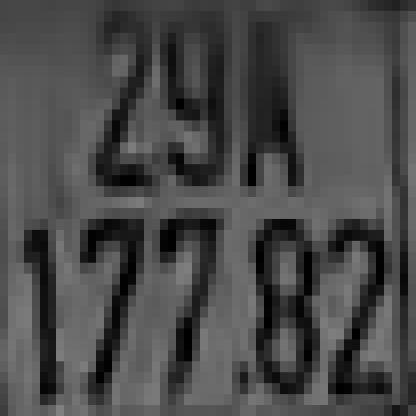1: (16, 208, 72, 394)
2: (312, 208, 384, 383), (88, 11, 152, 197)
7: (80, 208, 144, 394), (160, 208, 216, 394)
8: (248, 208, 312, 383)
9: (168, 11, 216, 186)
A: (232, 11, 296, 197)
